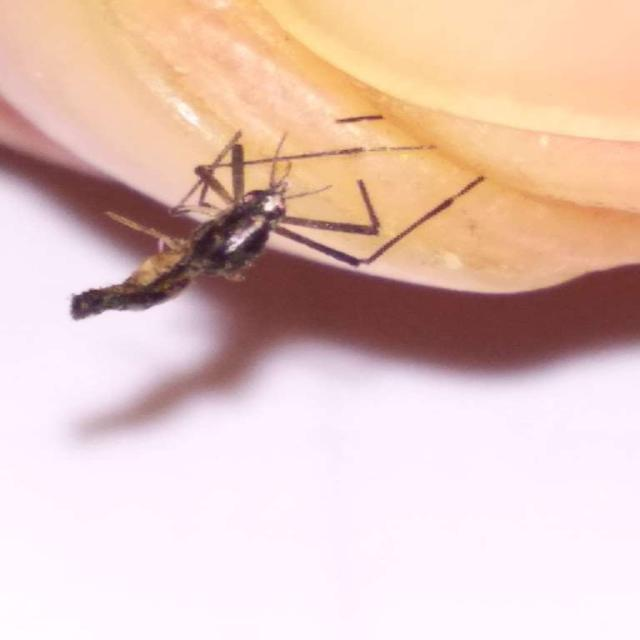albopictus: (80, 96, 492, 334)
